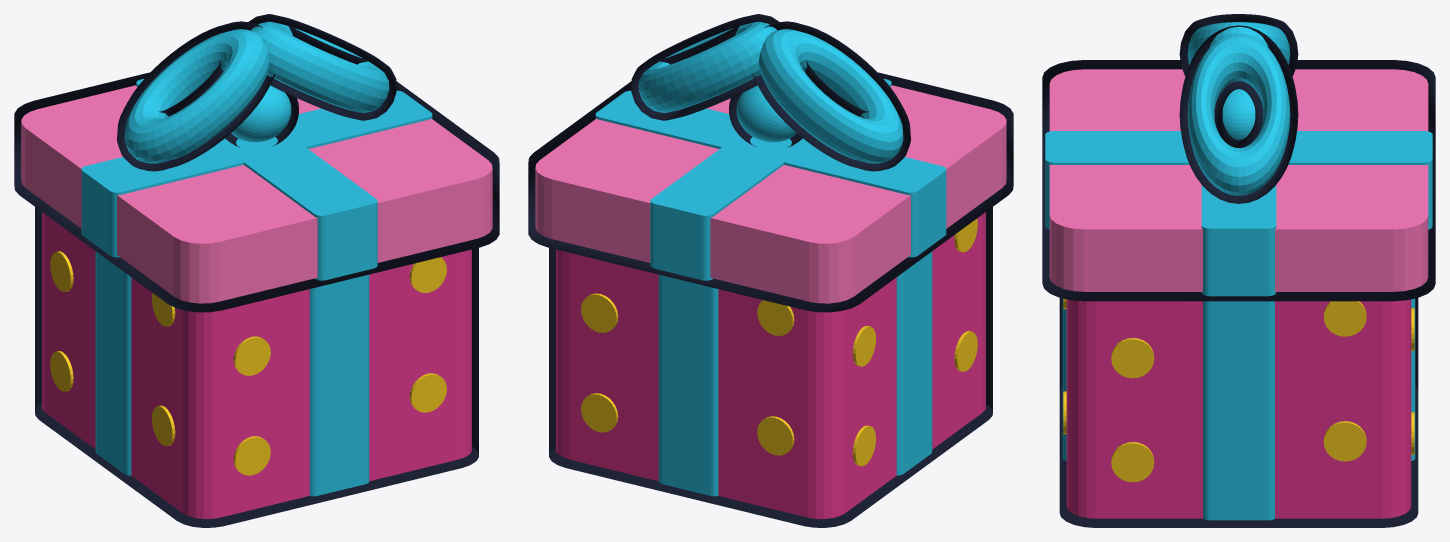
The model's file is Cadeau.glb.
3 renders of one model, left to right at view 1: azimuth 30°, elevation 25°; view 2: azimuth 150°, elevation 25°; view 3: azimuth 270°, elevation 25°, orthographic. The views are drawn at different scales.
Parts seen in each view (by area): view 1: Cadeau_Couvercle, Cadeau_Boite; view 2: Cadeau_Couvercle, Cadeau_Boite; view 3: Cadeau_Couvercle, Cadeau_Boite.
Part boxes in pixels (x1,y1,x2,y2): Cadeau_Couvercle: (14, 14, 499, 312); Cadeau_Boite: (35, 207, 478, 527); Cadeau_Couvercle: (528, 14, 1013, 312); Cadeau_Boite: (549, 207, 992, 527); Cadeau_Couvercle: (1042, 14, 1435, 301); Cadeau_Boite: (1059, 298, 1418, 527).
Bounding box in the file's own units: 1.37 × 1.65 × 1.37.
